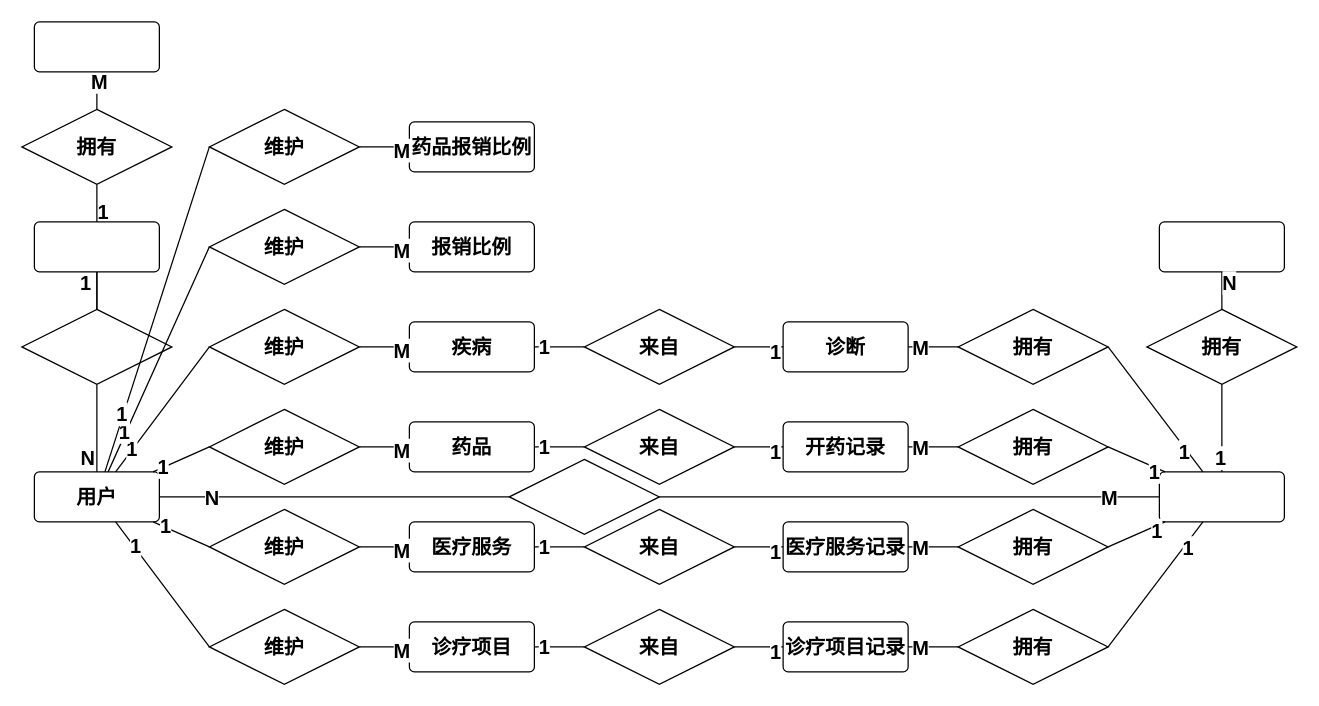
Some shapes in this 1319 by 706 pixel diagram are drawn without their labels. The shapes that lost their labels are listed below. From the top down, each one's box as (x1, y1, x2, y2) in pixels, then its label:
(33, 21, 159, 72): 菜单
(33, 221, 159, 272): 角色
(1158, 221, 1284, 272): 报销记录
(21, 308, 172, 384): 属于
(508, 458, 659, 534): 管理
(1158, 471, 1284, 522): 投保人
